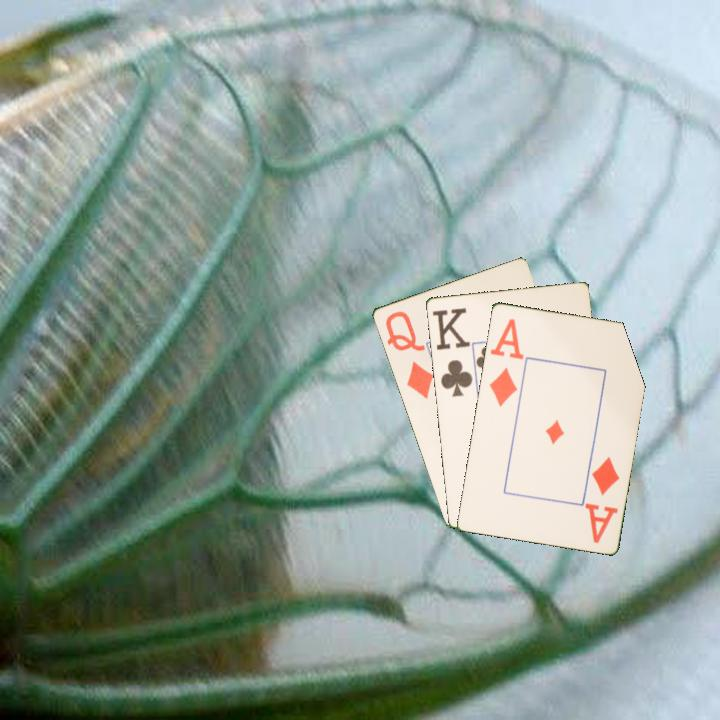Ad: (485, 315, 526, 409), (583, 452, 622, 546)
Kc: (428, 304, 475, 399)
Qd: (381, 307, 436, 401)
